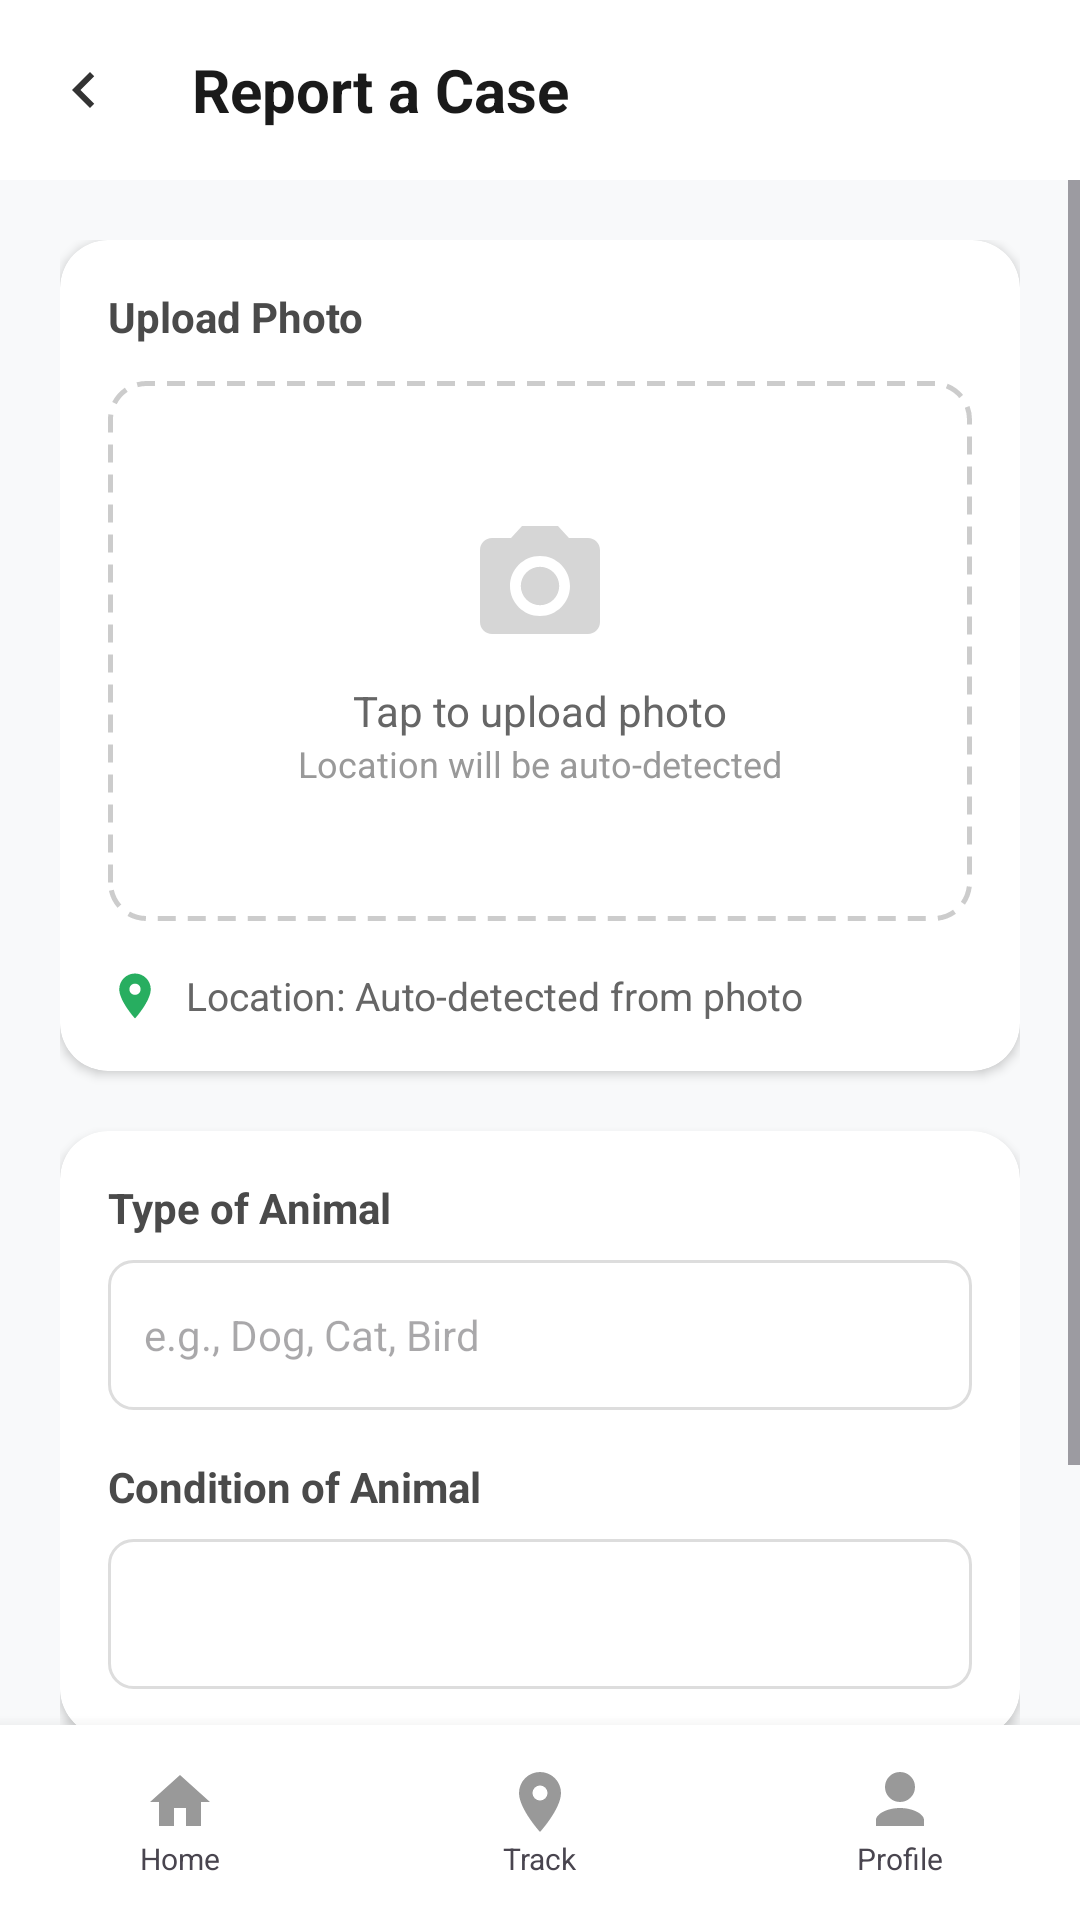

Icon bounding boxes for this 1080w x 1920h phone screenshot, format (x1, y1, x2, y2):
back: (72, 72, 94, 108)
camera: (480, 526, 600, 634)
